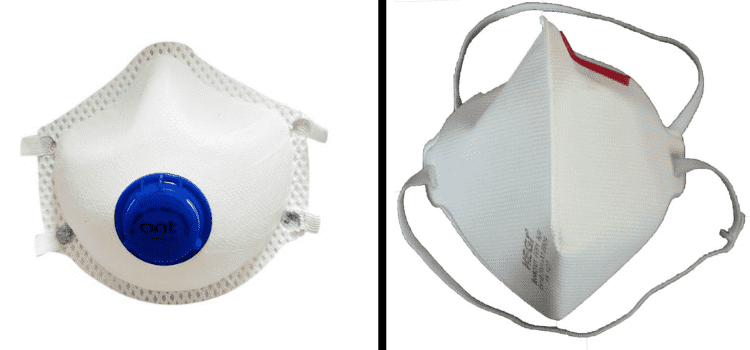maske: (407, 11, 725, 350), (24, 12, 338, 350)
